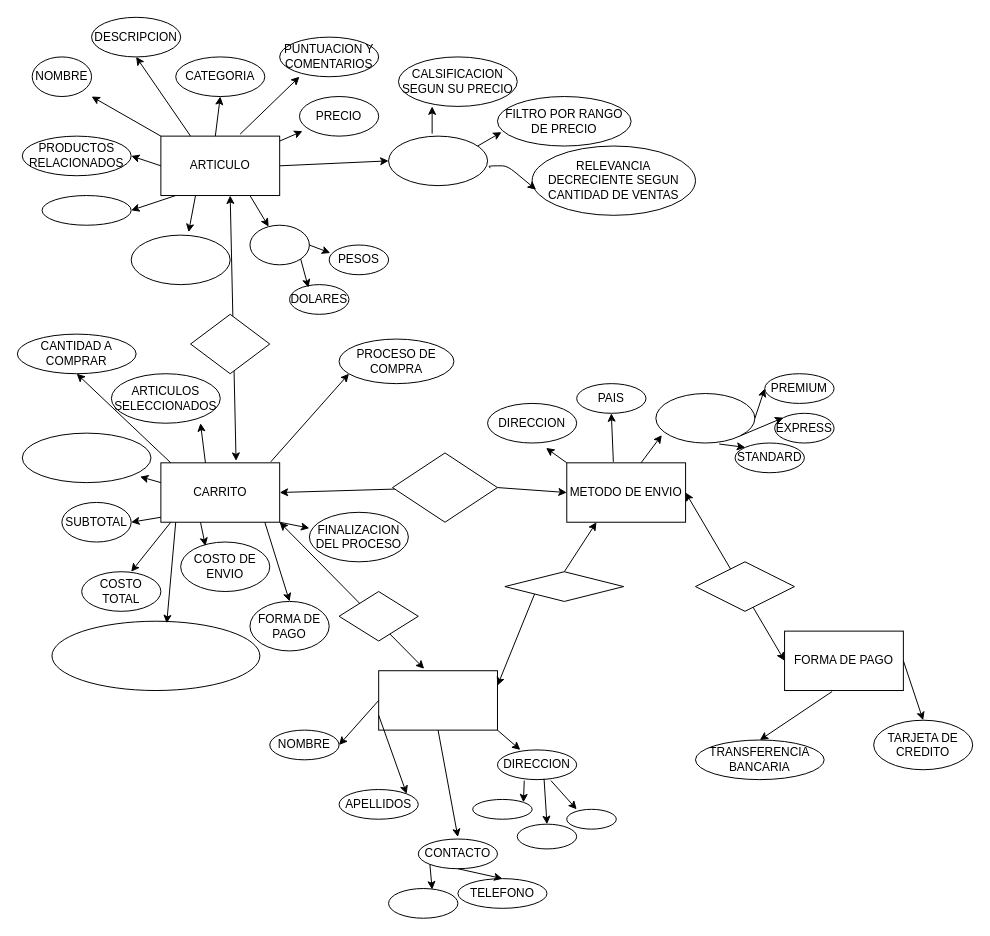
Image size: 990x936. Some labels were removed from this diagram. The shapes that lost their labels are listed below. From the top down, each one's centre as x and y in pixels, then its label:
At (438,160): "LISTADO DE ARTICULOS".
At (86,210): "IMAGENES".
At (180,259): "CANTIDAD DE COMPRADOS".
At (279,244): "MONEDA".
At (230,343): "CONTIENE".
At (705,418): "TIPO DE ENVIO".
At (86,457): "COSTO UNITARIO DE CADA ARTICULO".
At (444,487): "LO LLEVA AL PROCESO".
At (564,586): "PROPORCIONA".
At (744,586): "COSTO TOTALES".
At (378,616): "ACCEDE".
At (155,655): "COSTO TOTAL DEL COSTO UNITARIO X UNIDAD RESPECTIVA".
At (437,700): "USUARIO".
At (502,808): "NUMERO".
At (591,818): "CALLE".
At (546,836): "ESQUINA".
At (423,903): "CORREO".
